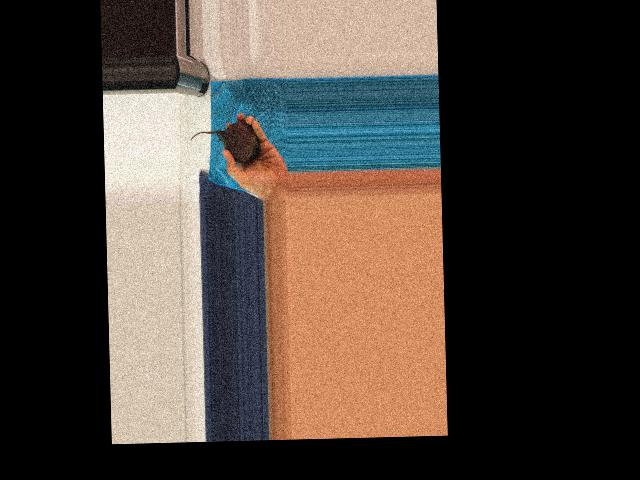beet: (190, 119, 261, 163)
